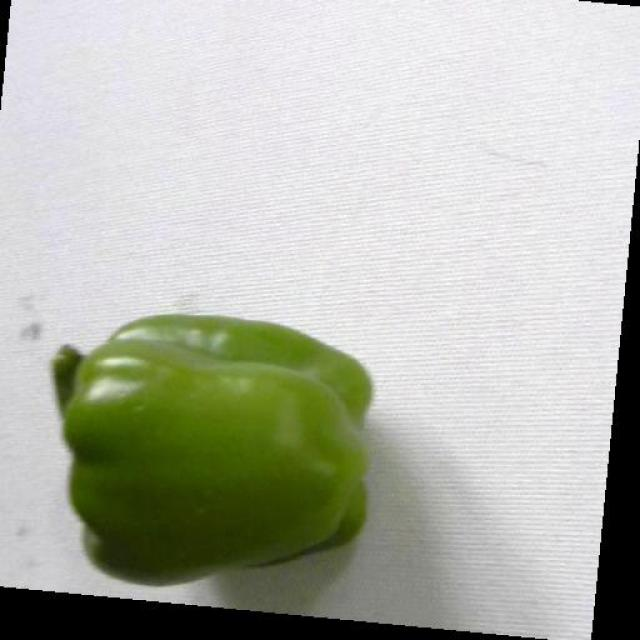Fresh_Capsicum: (57, 323, 388, 584)
